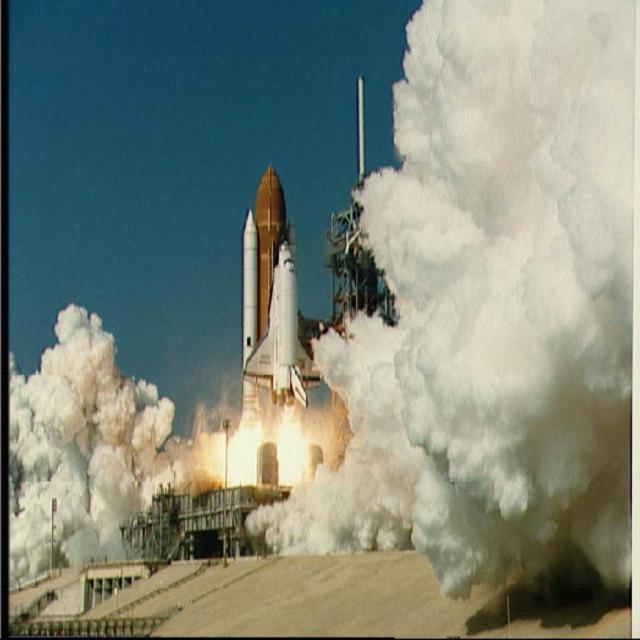missile: (239, 166, 330, 430)
